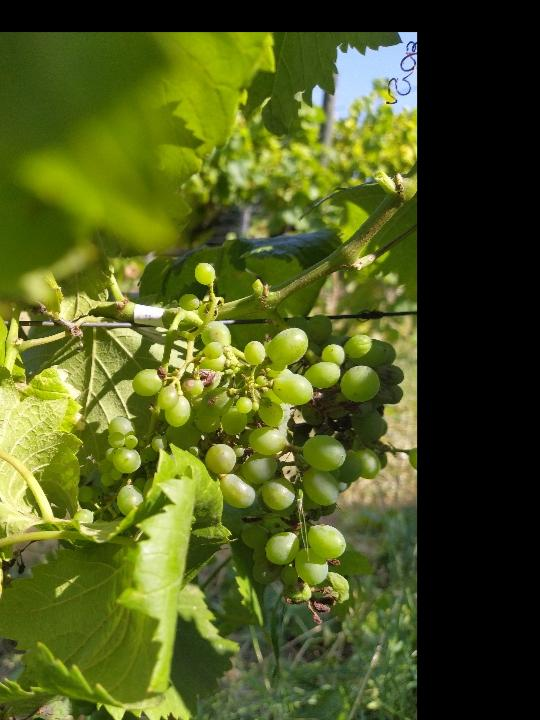grape: (80, 261, 414, 627)
